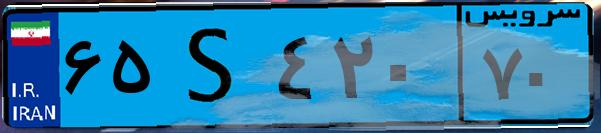0: (385, 28, 445, 110), (525, 38, 570, 115)
2: (330, 28, 385, 110)
4: (270, 28, 330, 110)
5: (110, 28, 158, 98)
6: (57, 26, 110, 100)
7: (475, 38, 525, 113)
S: (158, 12, 270, 120)
